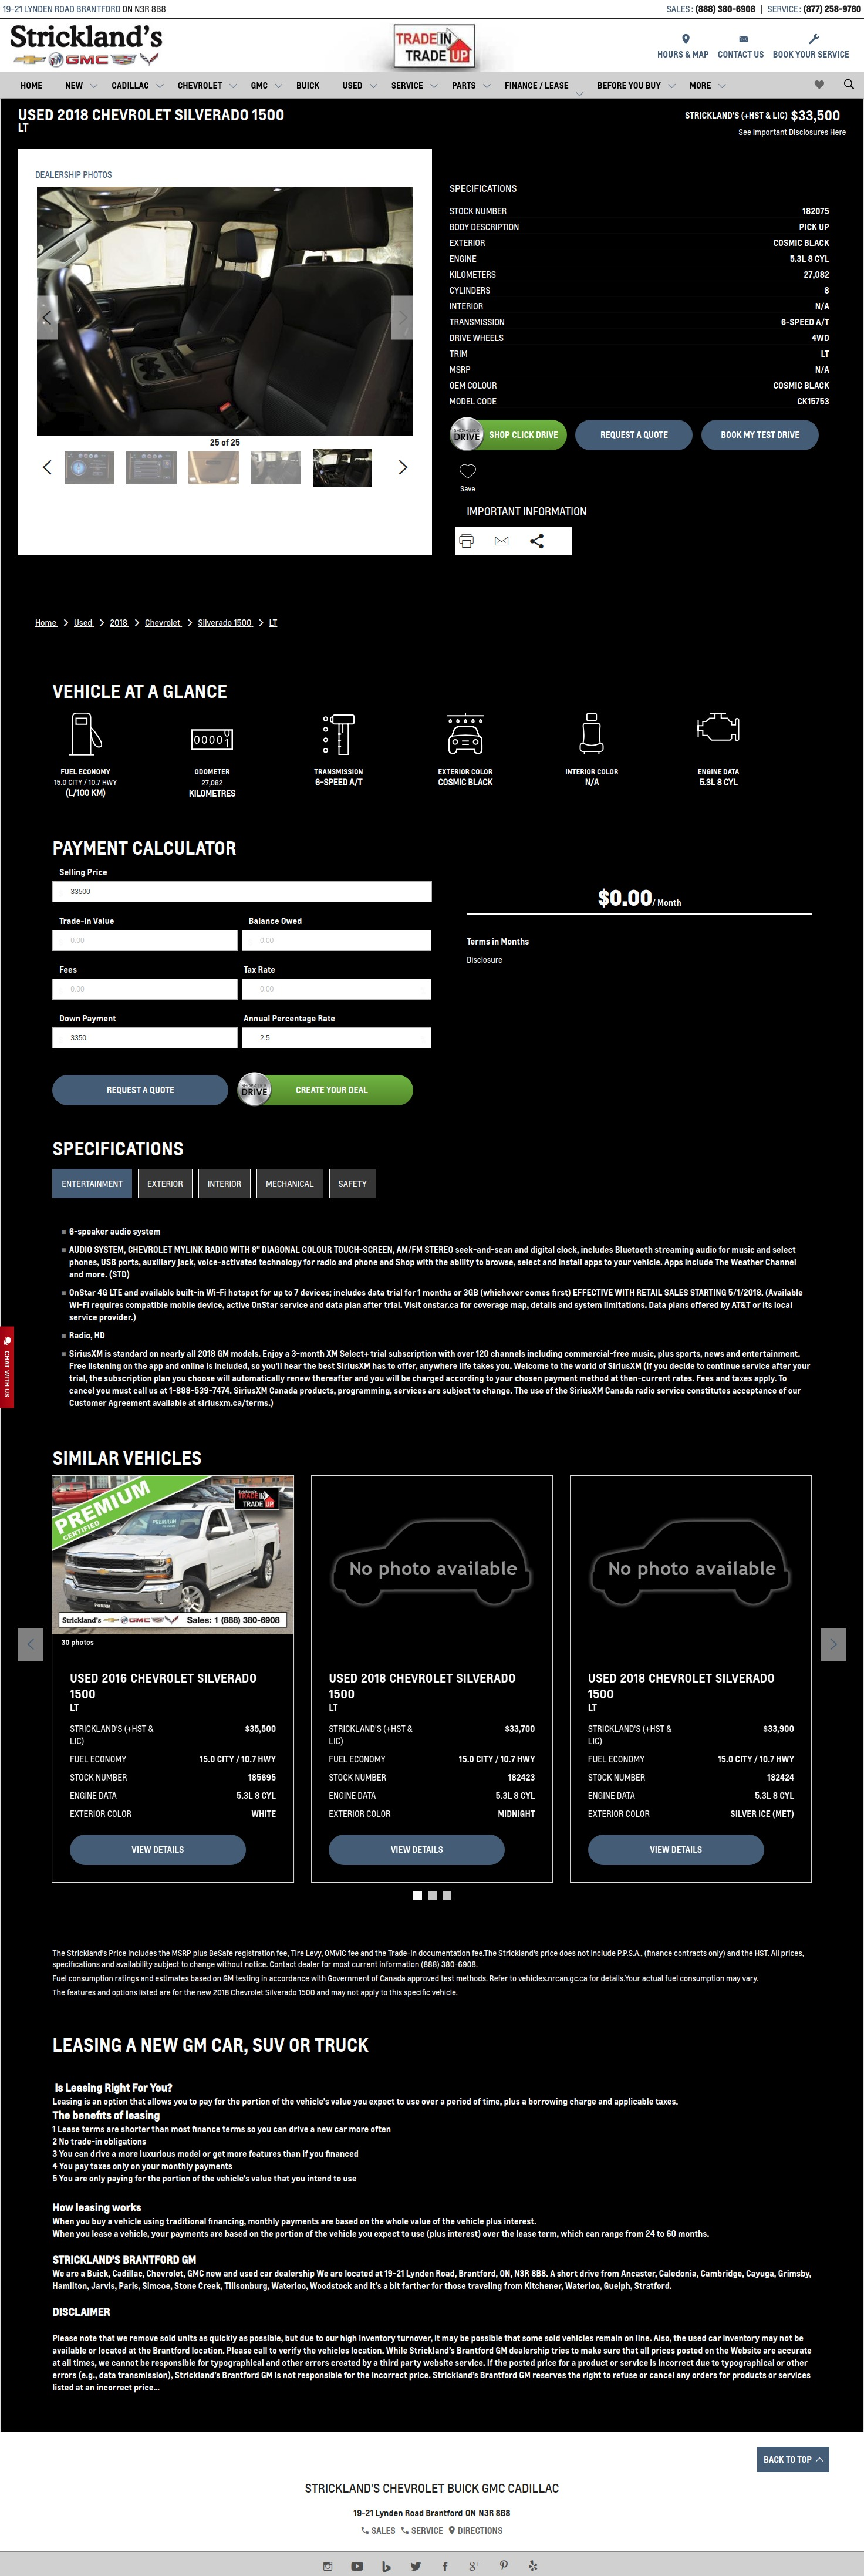car: (399, 460, 409, 475)
